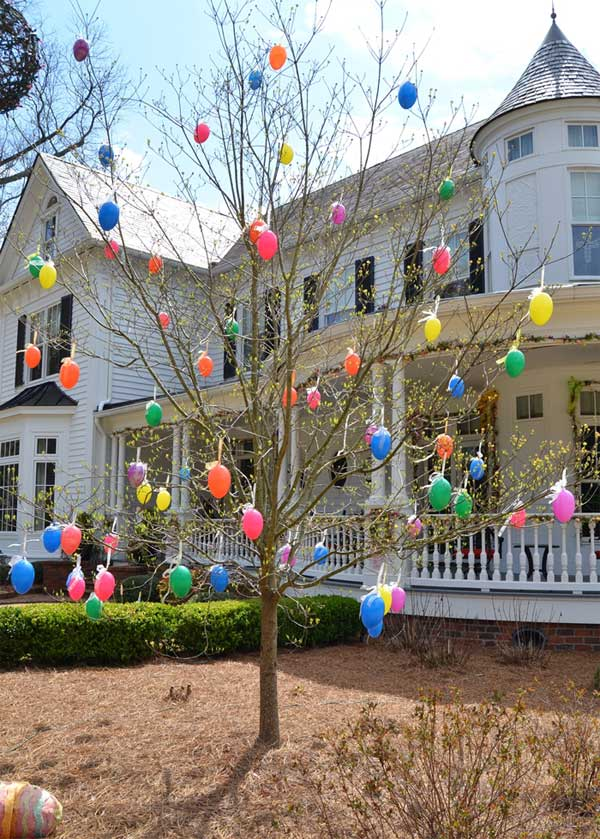tree: (32, 23, 559, 747)
